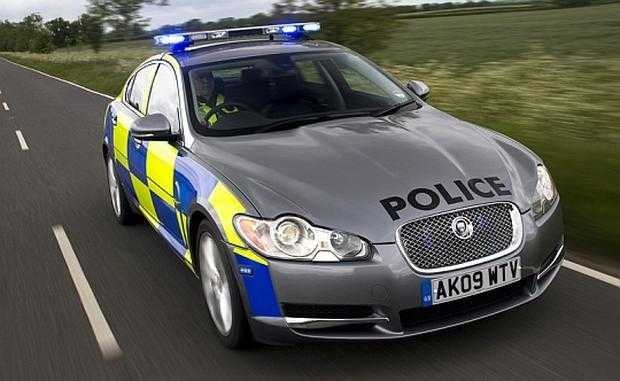Police Car: (100, 17, 568, 347)
